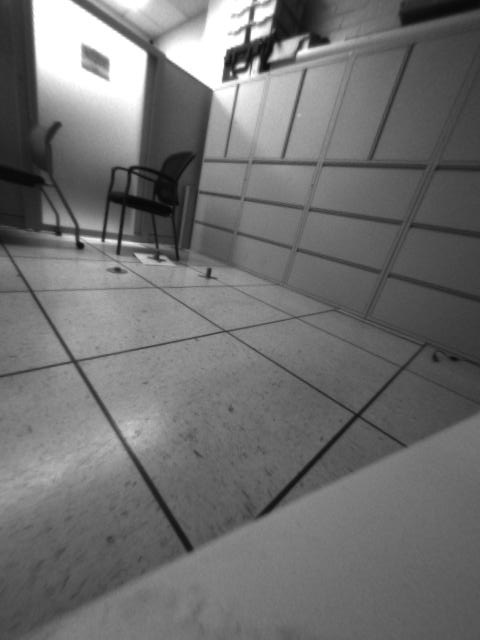X: (196, 262, 216, 282), (147, 246, 165, 264)
